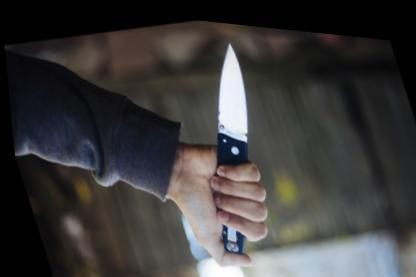knife: (155, 24, 294, 227)
